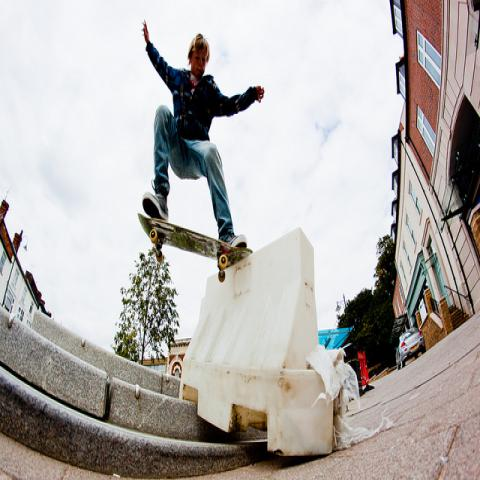car: (394, 326, 426, 368)
